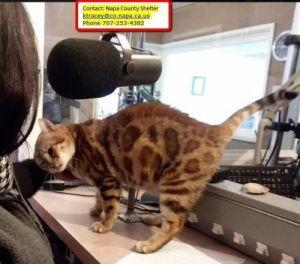bengal: (29, 118, 80, 176)
